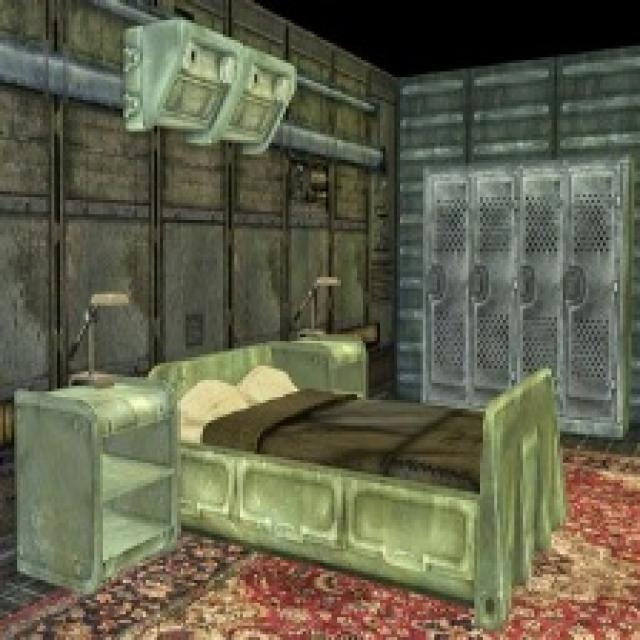Bed: (145, 334, 566, 632)
